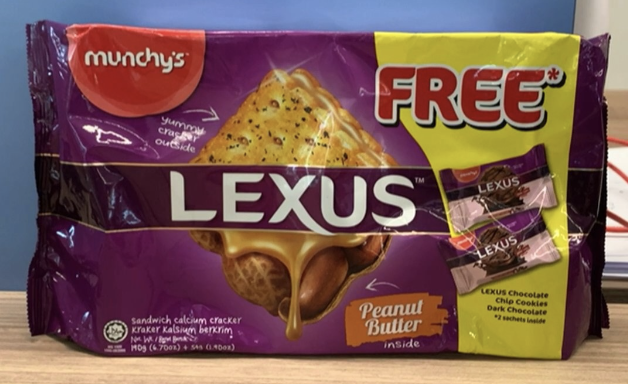crackers_200g-299g: (73, 46, 573, 355)
